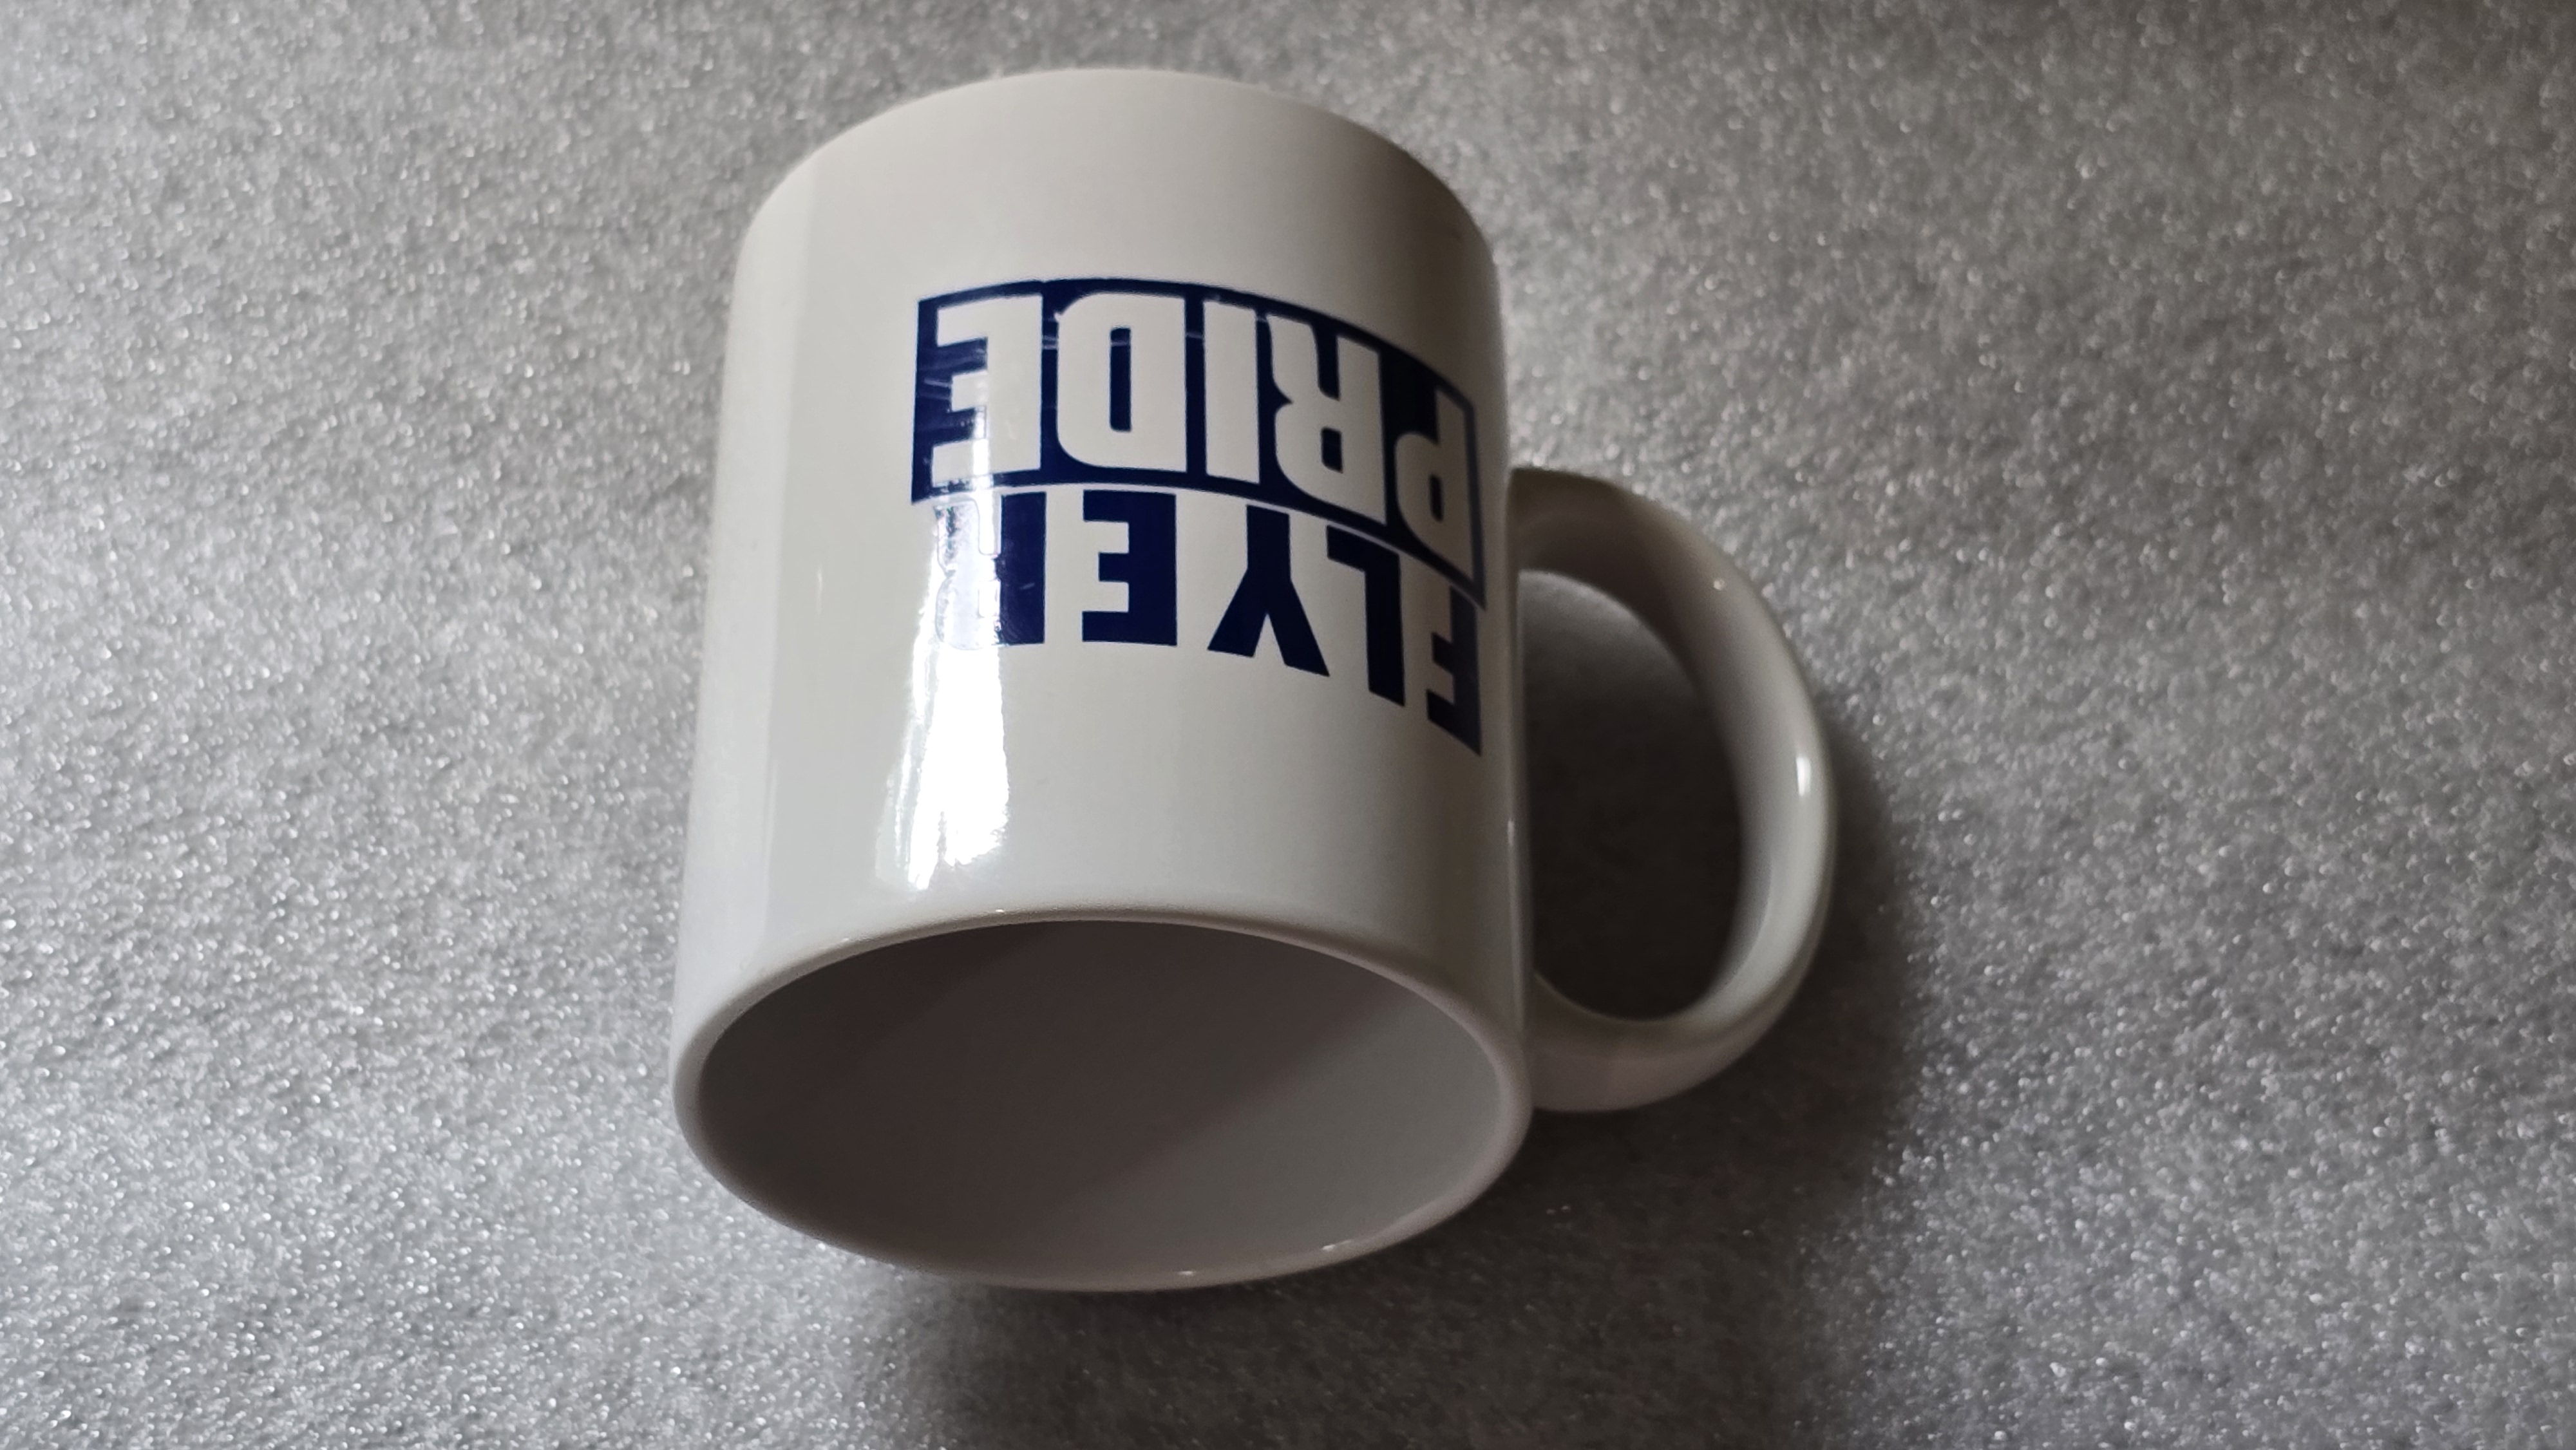mug: (649, 58, 1930, 1314)
